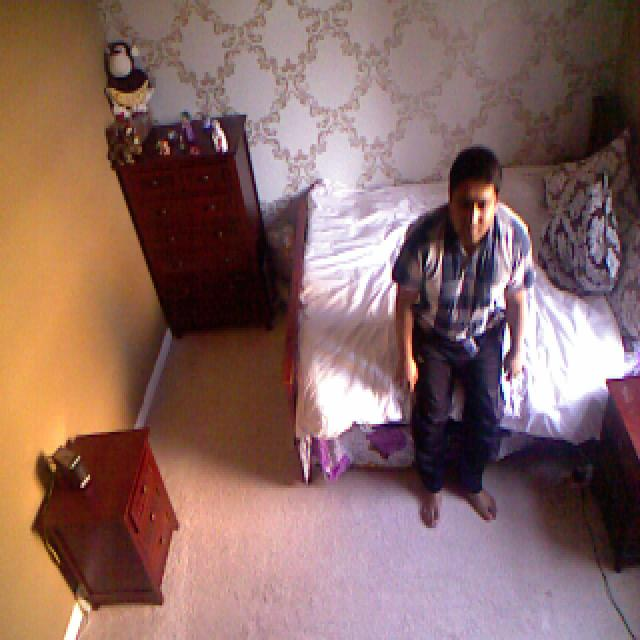bending: (395, 141, 541, 559)
